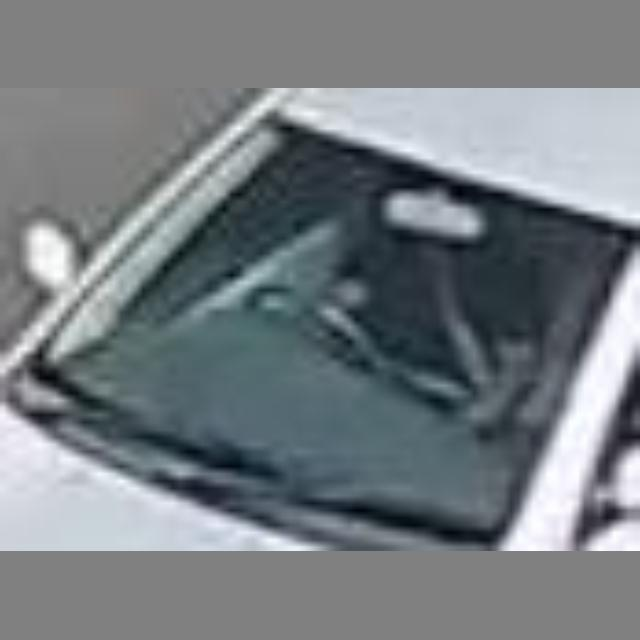pakai: (331, 220, 537, 419)
